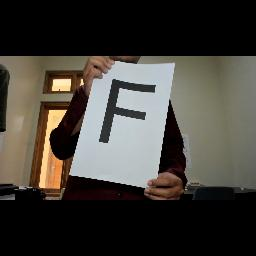f: (97, 74, 159, 158)
